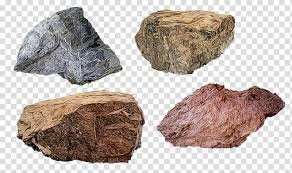obstacle: (17, 91, 143, 161), (14, 7, 121, 84), (157, 84, 284, 147), (135, 10, 234, 73)
